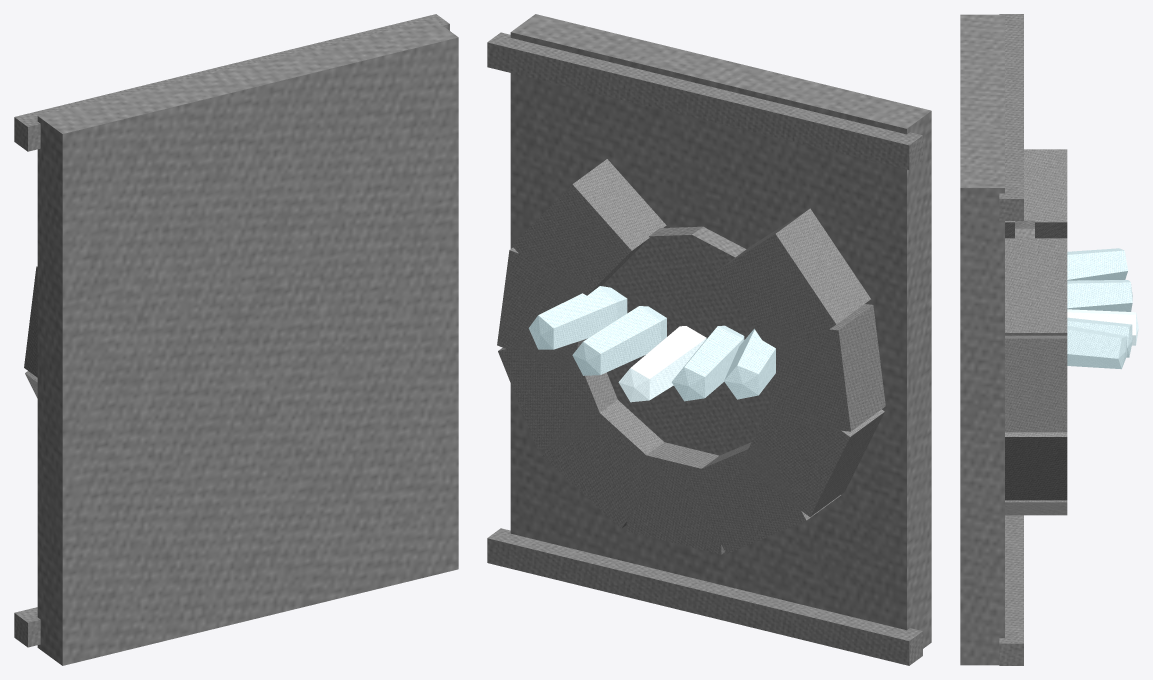
Rendered from decor-cut-geode-plaque.glb.
3 views of the same model, side by side, from view 1: azimuth 30°, elevation 25°; view 2: azimuth 150°, elevation 25°; view 3: azimuth 270°, elevation 25° (orthographic). The views are drawn at different scales.
Parts seen in each view (by area): view 1: backing, top-band, bottom-band, shell-1; view 2: backing, geode-shadow, top-band, bottom-band, shell-0, shell-8, shell-1, shell-5, shell-2, shell-6, shell-3, shell-4 (+6 smaller); view 3: backing, shell-8, shell-7, shell-6, top-band, shell-0, bottom-band, interior-2, interior--1, interior--2, shell-5, interior-0 (+2 smaller).
Boxes of the visible parts, left/top/right/bottom form: backing: left=37, top=19, right=458, bottom=665; top-band: left=14, top=14, right=449, bottom=151; bottom-band: left=14, top=607, right=40, bottom=647; shell-1: left=24, top=266, right=37, bottom=377; backing: left=510, top=14, right=931, bottom=648; geode-shadow: left=602, top=226, right=771, bottom=455; top-band: left=487, top=32, right=922, bottom=169; bottom-band: left=487, top=528, right=922, bottom=665; shell-0: left=716, top=208, right=870, bottom=360; shell-8: left=511, top=159, right=666, bottom=302; shell-1: left=762, top=304, right=885, bottom=431; shell-5: left=542, top=400, right=663, bottom=528; shell-2: left=740, top=388, right=884, bottom=516; shell-6: left=498, top=342, right=617, bottom=450; shell-3: left=685, top=442, right=840, bottom=554; shell-4: left=626, top=442, right=724, bottom=554; backing: left=960, top=14, right=1004, bottom=665; shell-8: left=1005, top=238, right=1067, bottom=335; shell-7: left=1005, top=335, right=1067, bottom=432; shell-6: left=1005, top=432, right=1067, bottom=500; top-band: left=999, top=14, right=1023, bottom=220; shell-0: left=1005, top=149, right=1067, bottom=238; bottom-band: left=999, top=515, right=1023, bottom=665; interior-2: left=1067, top=325, right=1127, bottom=369; interior--1: left=1067, top=280, right=1132, bottom=311; interior--2: left=1067, top=248, right=1127, bottom=280; shell-5: left=1005, top=500, right=1067, bottom=515; interior-0: left=1067, top=309, right=1138, bottom=345.
Size of the model in its own units: 0.98 by 1.18 by 0.4.
6 materials, 6 textured.
